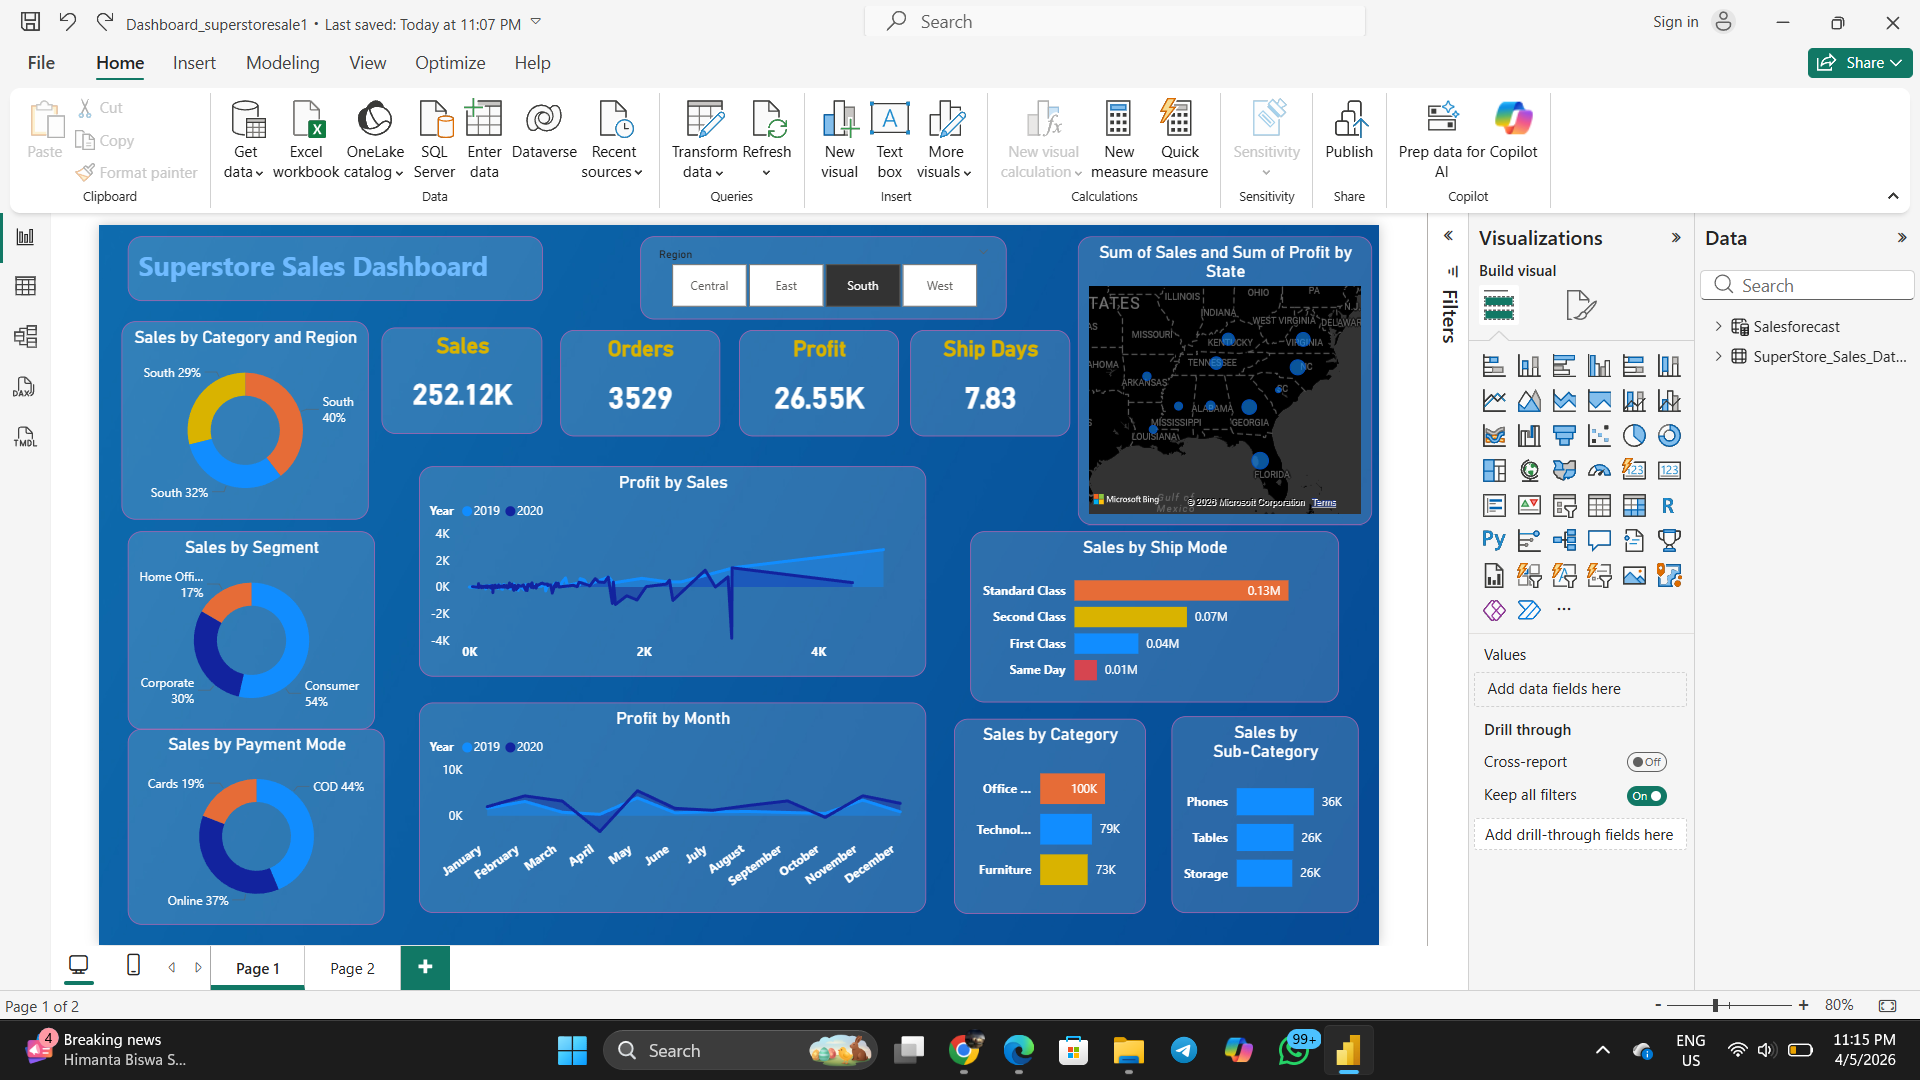

What the dashboard file says about the page in this screenshot:
{"tool":"powerbi","page":{"name":"Page 1","canvas":[1280,720],"ordinal":0},"visuals":[{"type":"clusteredBarChart","title":"Sales by Category","fields":{"Category":["SuperStore_Sales_Dataset.Category"],"Y":["Sum(SuperStore_Sales_Dataset.Sales)"]},"box":[855,493.3,191.7,195],"z":0},{"type":"clusteredBarChart","title":"Sales by Sub-Category","fields":{"Category":["SuperStore_Sales_Dataset.Sub-Category"],"Y":["Sum(SuperStore_Sales_Dataset.Sales)"]},"box":[1072.9,491.4,187.1,197.1],"z":1000},{"type":"clusteredBarChart","title":" Sales by Ship Mode","fields":{"Category":["SuperStore_Sales_Dataset.Ship Mode"],"Y":["Sum(SuperStore_Sales_Dataset.Sales)"]},"box":[871.4,305.7,368.6,171.4],"z":2000},{"type":"stackedAreaChart","title":" Profit by Sales","fields":{"Category":["SuperStore_Sales_Dataset.Sales"],"Series":["SuperStore_Sales_Dataset.Order Date.Variation.Date Hierarchy.Year"],"Y":["Sum(SuperStore_Sales_Dataset.Profit)"]},"box":[320,241.4,507.1,210],"z":3000},{"type":"map","fields":{"Category":["SuperStore_Sales_Dataset.State"],"Size":["Sum(SuperStore_Sales_Dataset.Sales)"]},"box":[978.6,11.4,294.3,288.6],"z":4000},{"type":"donutChart","title":"Sales by Segment","fields":{"Category":["SuperStore_Sales_Dataset.Segment"],"Y":["Sum(SuperStore_Sales_Dataset.Sales)"]},"box":[28.6,305.7,247.1,198.6],"z":5000},{"type":"donutChart","title":"Sales by Payment Mode","fields":{"Category":["SuperStore_Sales_Dataset.Payment Mode"],"Y":["Sum(SuperStore_Sales_Dataset.Sales)"]},"box":[28.6,504.3,257.1,195.7],"z":6000},{"type":"slicer","title":"REGION","fields":{"Values":["SuperStore_Sales_Dataset.Region"]},"box":[541.7,11.7,366.7,83.3],"z":7000},{"type":"textbox","box":[28.3,11.7,415,65],"z":8000},{"type":"stackedAreaChart","title":" Profit by Month ","fields":{"Category":["SuperStore_Sales_Dataset.Order Date.Variation.Date Hierarchy.Month"],"Series":["SuperStore_Sales_Dataset.Order Date.Variation.Date Hierarchy.Year"],"Y":["Sum(SuperStore_Sales_Dataset.Profit)"]},"box":[320,477.1,507.1,210],"z":9000},{"type":"card","title":"    Sales","fields":{"Values":["Sum(SuperStore_Sales_Dataset.Sales)"]},"box":[282.2,102.2,161.1,106.7],"z":10000},{"type":"card","title":"Orders","fields":{"Values":["Sum(SuperStore_Sales_Dataset.Quantity)"]},"box":[461.1,104.4,160,106.7],"z":11000},{"type":"card","title":"    Ship Days","fields":{"Values":["Avg(SuperStore_Sales_Dataset.AverageDelivery)"]},"box":[811.1,104.4,160,106.7],"z":12000},{"type":"donutChart","title":" Sales by Category and Region","fields":{"Y":["Sum(SuperStore_Sales_Dataset.Sales)"],"Series":["SuperStore_Sales_Dataset.Region"],"Category":["SuperStore_Sales_Dataset.Category"]},"box":[22.9,95.7,247.1,198.6],"z":13000},{"type":"card","title":"Profit","fields":{"Values":["Sum(SuperStore_Sales_Dataset.Profit)"]},"box":[640,104.4,160,106.7],"z":14000}]}

Visuals, with their boxes on the page's 1280x720 design canvas (x1, y1, x2, y2). These are canvas units, not pixel positions in the 1920x1080 screenshot, which may show the page scaled, cropped or inside an application window:
"Sales by Category" clusteredBarChart: region(855, 493, 1047, 688)
"Sales by Sub-Category" clusteredBarChart: region(1073, 491, 1260, 688)
" Sales by Ship Mode" clusteredBarChart: region(871, 306, 1240, 477)
" Profit by Sales" stackedAreaChart: region(320, 241, 827, 451)
map - SuperStore_Sales_Dataset.State x Sum(SuperStore_Sales_Dataset.Sales): region(979, 11, 1273, 300)
"Sales by Segment" donutChart: region(29, 306, 276, 504)
"Sales by Payment Mode" donutChart: region(29, 504, 286, 700)
"REGION" slicer: region(542, 12, 908, 95)
textbox: region(28, 12, 443, 77)
" Profit by Month " stackedAreaChart: region(320, 477, 827, 687)
"    Sales" card: region(282, 102, 443, 209)
"Orders" card: region(461, 104, 621, 211)
"    Ship Days" card: region(811, 104, 971, 211)
" Sales by Category and Region" donutChart: region(23, 96, 270, 294)
"Profit" card: region(640, 104, 800, 211)
